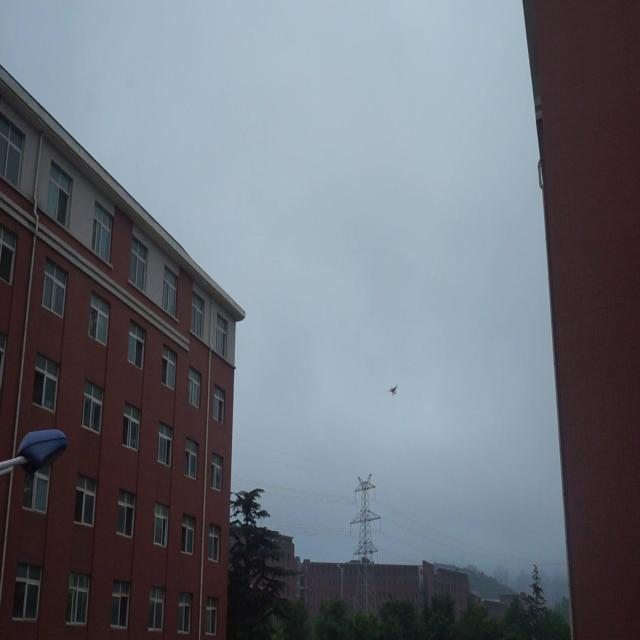drone: (388, 381, 398, 400)
